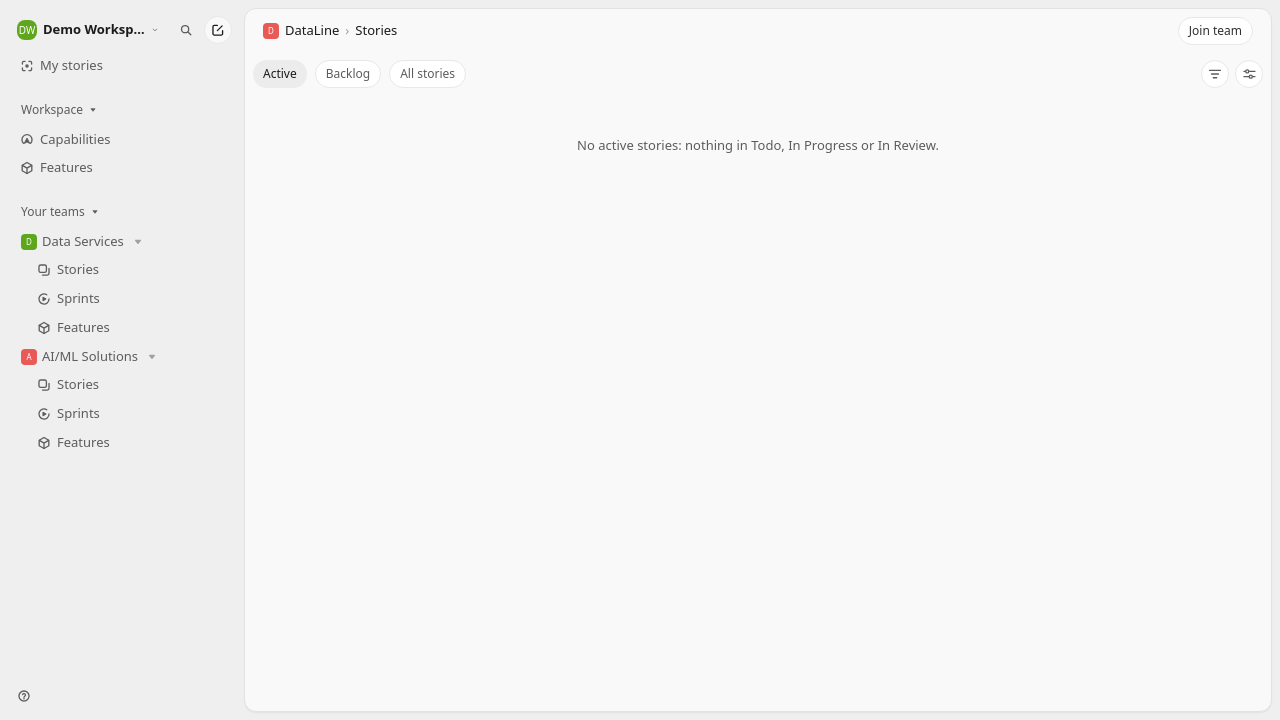
Test: a team you haven't joined offers Join team
Click the button "Join team". click: (1215, 31)
box: x1=1178 y1=17 x2=1253 y2=45
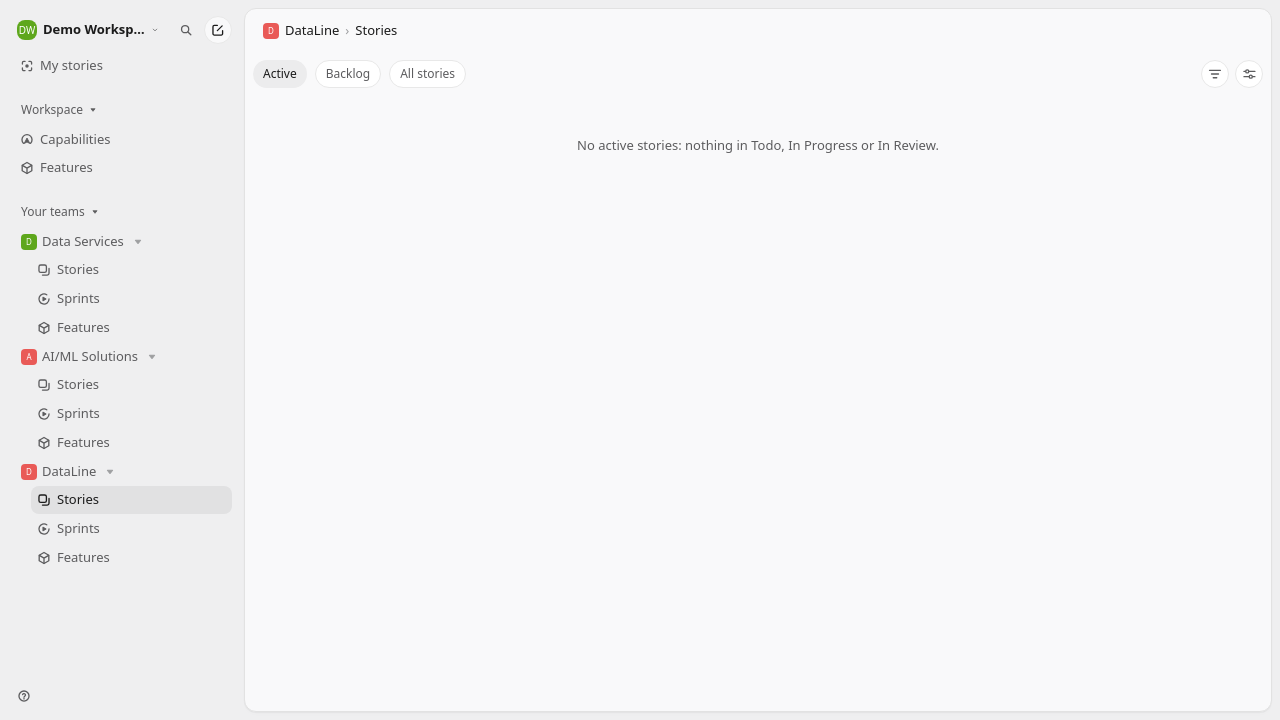
Expected: the 2nd button "D DataLine" is shown, x1=12 y1=458 x2=232 y2=486
